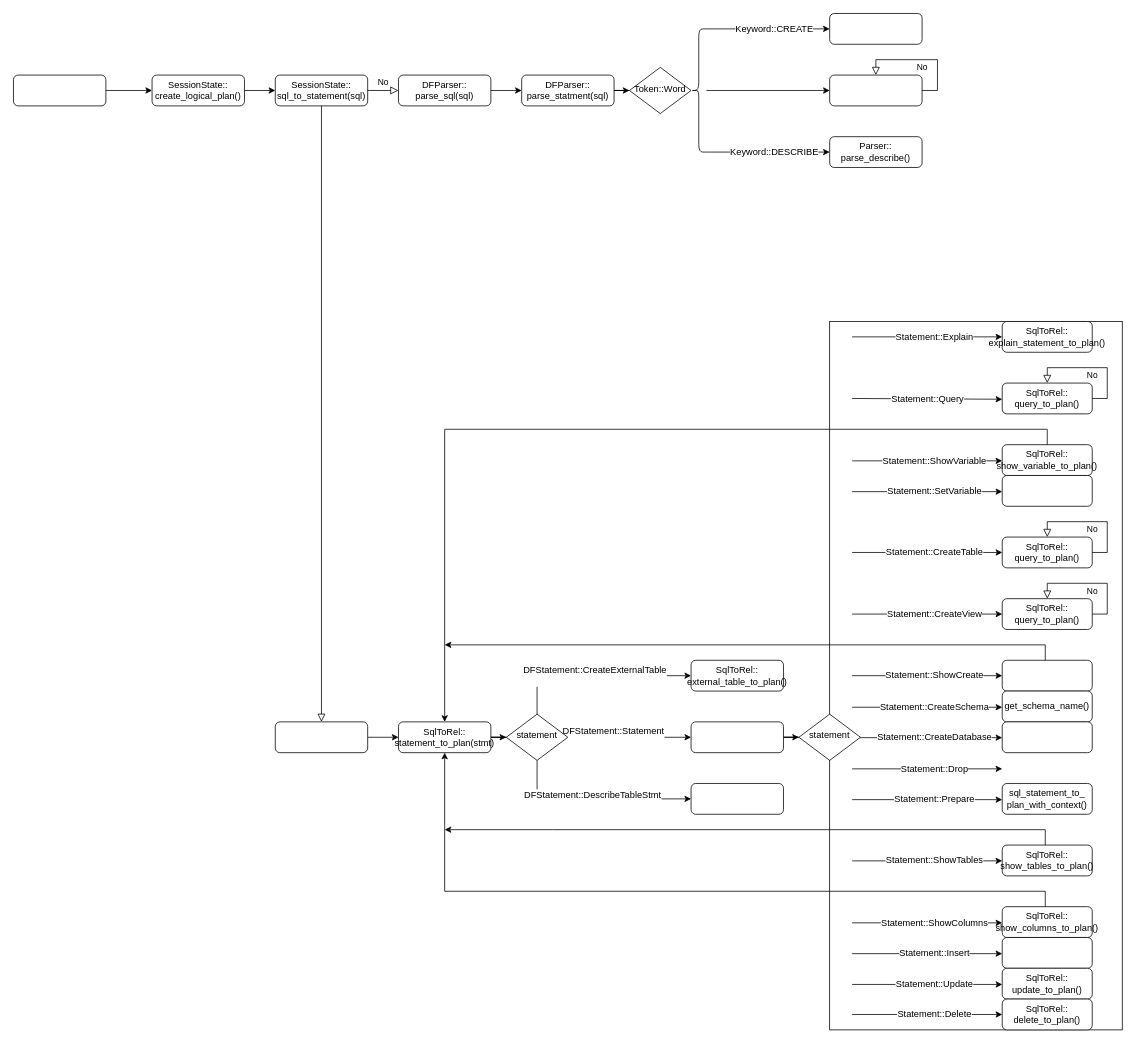
The diagram is 1136 pixels wide and 1043 high, and some of its shapes have lost their labels. Each missing label, with the box of its shape:
object_name_to_string(): (1001, 721, 1092, 753)
Parser:: parse_create(): (829, 13, 922, 44)
Parser:: parse_statement(): (829, 74, 922, 106)
SessionContext ::sql(): (13, 74, 106, 106)
SessionState:: statement_to_plan(stmt): (275, 721, 368, 753)
SqlToRel:: describe_table_to_plan(): (690, 783, 783, 814)
SqlToRel:: insert_to_plan(): (1001, 937, 1092, 968)
SqlToRel:: set_variable_to_plan(): (1001, 475, 1092, 506)
SqlToRel:: show_create_table_to_plan(): (1001, 660, 1092, 691)
SqlToRel:: sql_statement_to_plan(): (690, 721, 783, 753)
